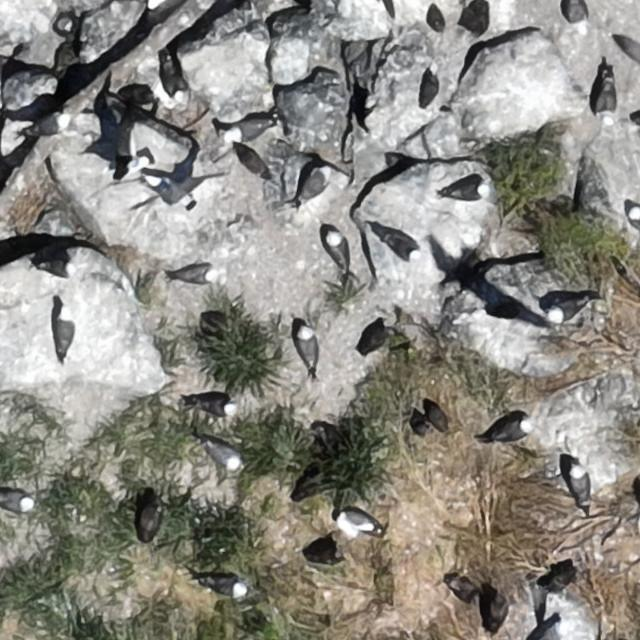umineko: (146, 174, 196, 212), (160, 53, 192, 108), (183, 390, 240, 417), (293, 165, 332, 204), (22, 114, 74, 138), (594, 72, 616, 128), (418, 59, 440, 112), (224, 118, 268, 144), (445, 180, 493, 203), (202, 576, 248, 596), (168, 266, 219, 284), (208, 442, 241, 469), (384, 233, 418, 259), (335, 512, 373, 533), (496, 418, 530, 440), (56, 312, 74, 353), (297, 328, 316, 366), (550, 299, 582, 321), (570, 466, 589, 502), (1, 493, 33, 513), (40, 260, 75, 277), (542, 618, 570, 638), (327, 235, 345, 263), (569, 1, 587, 28), (628, 203, 639, 224)
